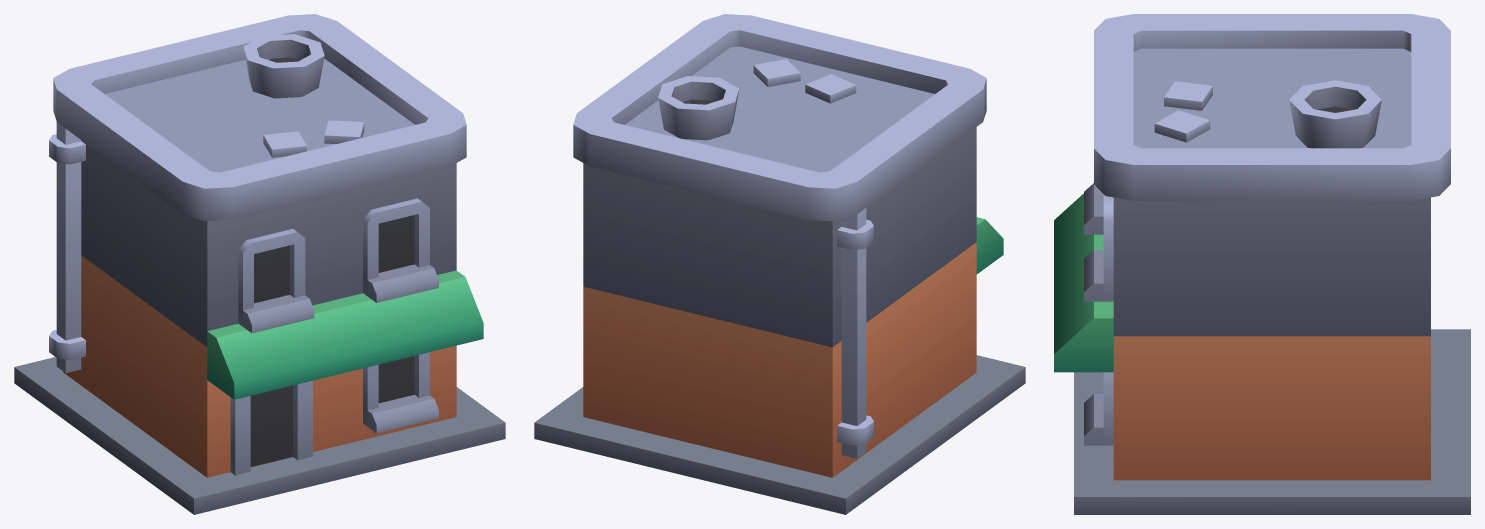
File: building-small-d.glb
3 views of the same model, side by side, from view 1: azimuth 30°, elevation 25°; view 2: azimuth 150°, elevation 25°; view 3: azimuth 270°, elevation 25° (orthographic). The views are drawn at different scales.
Parts seen in each view (by area): view 1: building-small-d; view 2: building-small-d; view 3: building-small-d.
Part boxes in pixels (x1,y1,x2,y2): building-small-d: (14,14,505,514); building-small-d: (534,14,1025,514); building-small-d: (1054,14,1470,514).
Size of the model in its own units: 1 by 1 by 1.05.
1 material, 1 textured.
